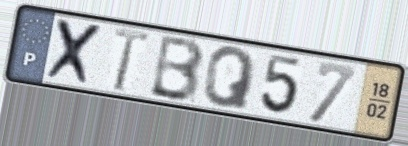5: (256, 53, 306, 116)
7: (311, 60, 359, 126)
B: (146, 34, 207, 105)
Q: (201, 45, 259, 112)
T: (111, 24, 152, 93)
X: (42, 16, 108, 89)
